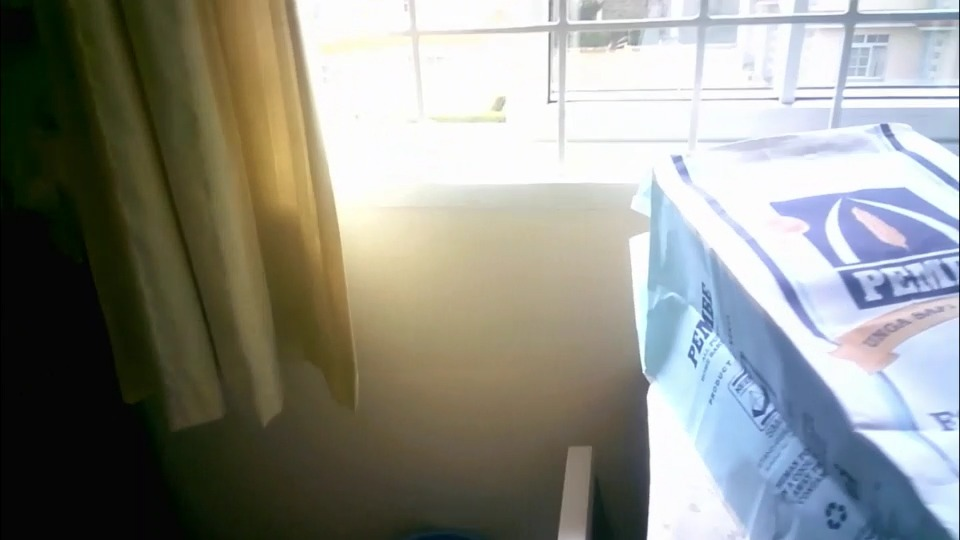wheat_flour_blue_label: (642, 123, 957, 539)
